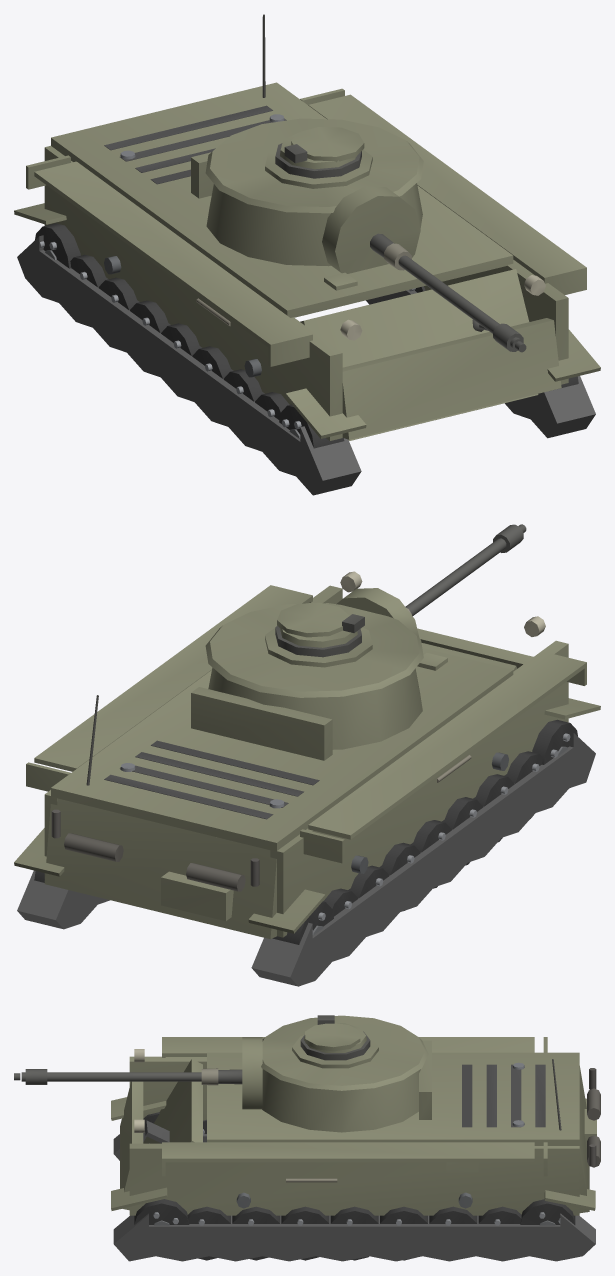
3 views of the same model, one above another, from view 1: azimuth 30°, elevation 25°; view 2: azimuth 150°, elevation 25°; view 3: azimuth 270°, elevation 25° (orthographic). The views are drawn at different scales.
Parts seen in each view (by area): view 1: hullSide, hullTop, tracks, lowerPlate, glacis, turretSide, turretFront, mantlet, turretRoof, barrel, wheel8, wheel7 (+7 smaller); view 2: hullSide, hullTop, tracks, hullRear, turretSide, turretFront, turretRear, turretRoof, barrel, mantlet, lowerPlate, wheel7 (+8 smaller); view 3: hullSide, hullTop, tracks, turretSide, turretFront, turretRoof, glacis, barrel, hullRear, lowerPlate, mantlet, wheel16 (+9 smaller).
Part boxes in pixels (bbox=[...]): hullSide: bbox=[26, 88, 586, 440]; hullTop: bbox=[51, 82, 513, 317]; tracks: bbox=[14, 203, 600, 495]; lowerPlate: bbox=[342, 318, 561, 439]; glacis: bbox=[300, 269, 538, 440]; turretSide: bbox=[205, 118, 423, 213]; turretFront: bbox=[206, 183, 422, 266]; mantlet: bbox=[322, 186, 420, 273]; turretRoof: bbox=[265, 127, 372, 188]; barrel: bbox=[370, 233, 526, 352]; wheel8: bbox=[35, 223, 80, 268]; wheel7: bbox=[279, 404, 344, 448]; hullSide: bbox=[26, 571, 586, 937]; hullTop: bbox=[51, 648, 513, 851]; tracks: bbox=[14, 698, 600, 986]; hullRear: bbox=[44, 695, 276, 939]; turretSide: bbox=[205, 603, 423, 697]; turretFront: bbox=[208, 667, 422, 749]; turretRear: bbox=[191, 687, 332, 760]; turretRoof: bbox=[265, 602, 372, 667]; barrel: bbox=[405, 524, 526, 616]; mantlet: bbox=[336, 588, 419, 637]; lowerPlate: bbox=[417, 628, 533, 668]; wheel7: bbox=[532, 719, 577, 764]; hullSide: bbox=[129, 1037, 579, 1215]; hullTop: bbox=[207, 1052, 579, 1145]; tracks: bbox=[111, 1097, 595, 1261]; turretSide: bbox=[261, 1015, 428, 1090]; turretFront: bbox=[262, 1069, 420, 1132]; turretRoof: bbox=[292, 1015, 378, 1068]; glacis: bbox=[143, 1059, 202, 1143]; barrel: bbox=[14, 1068, 242, 1085]; hullRear: bbox=[552, 1059, 600, 1213]; lowerPlate: bbox=[120, 1081, 143, 1210]; mantlet: bbox=[242, 1037, 262, 1109]; wheel16: bbox=[134, 1199, 189, 1225].
Size of the model in its own units: 4.48 by 3.14 by 9.13.
